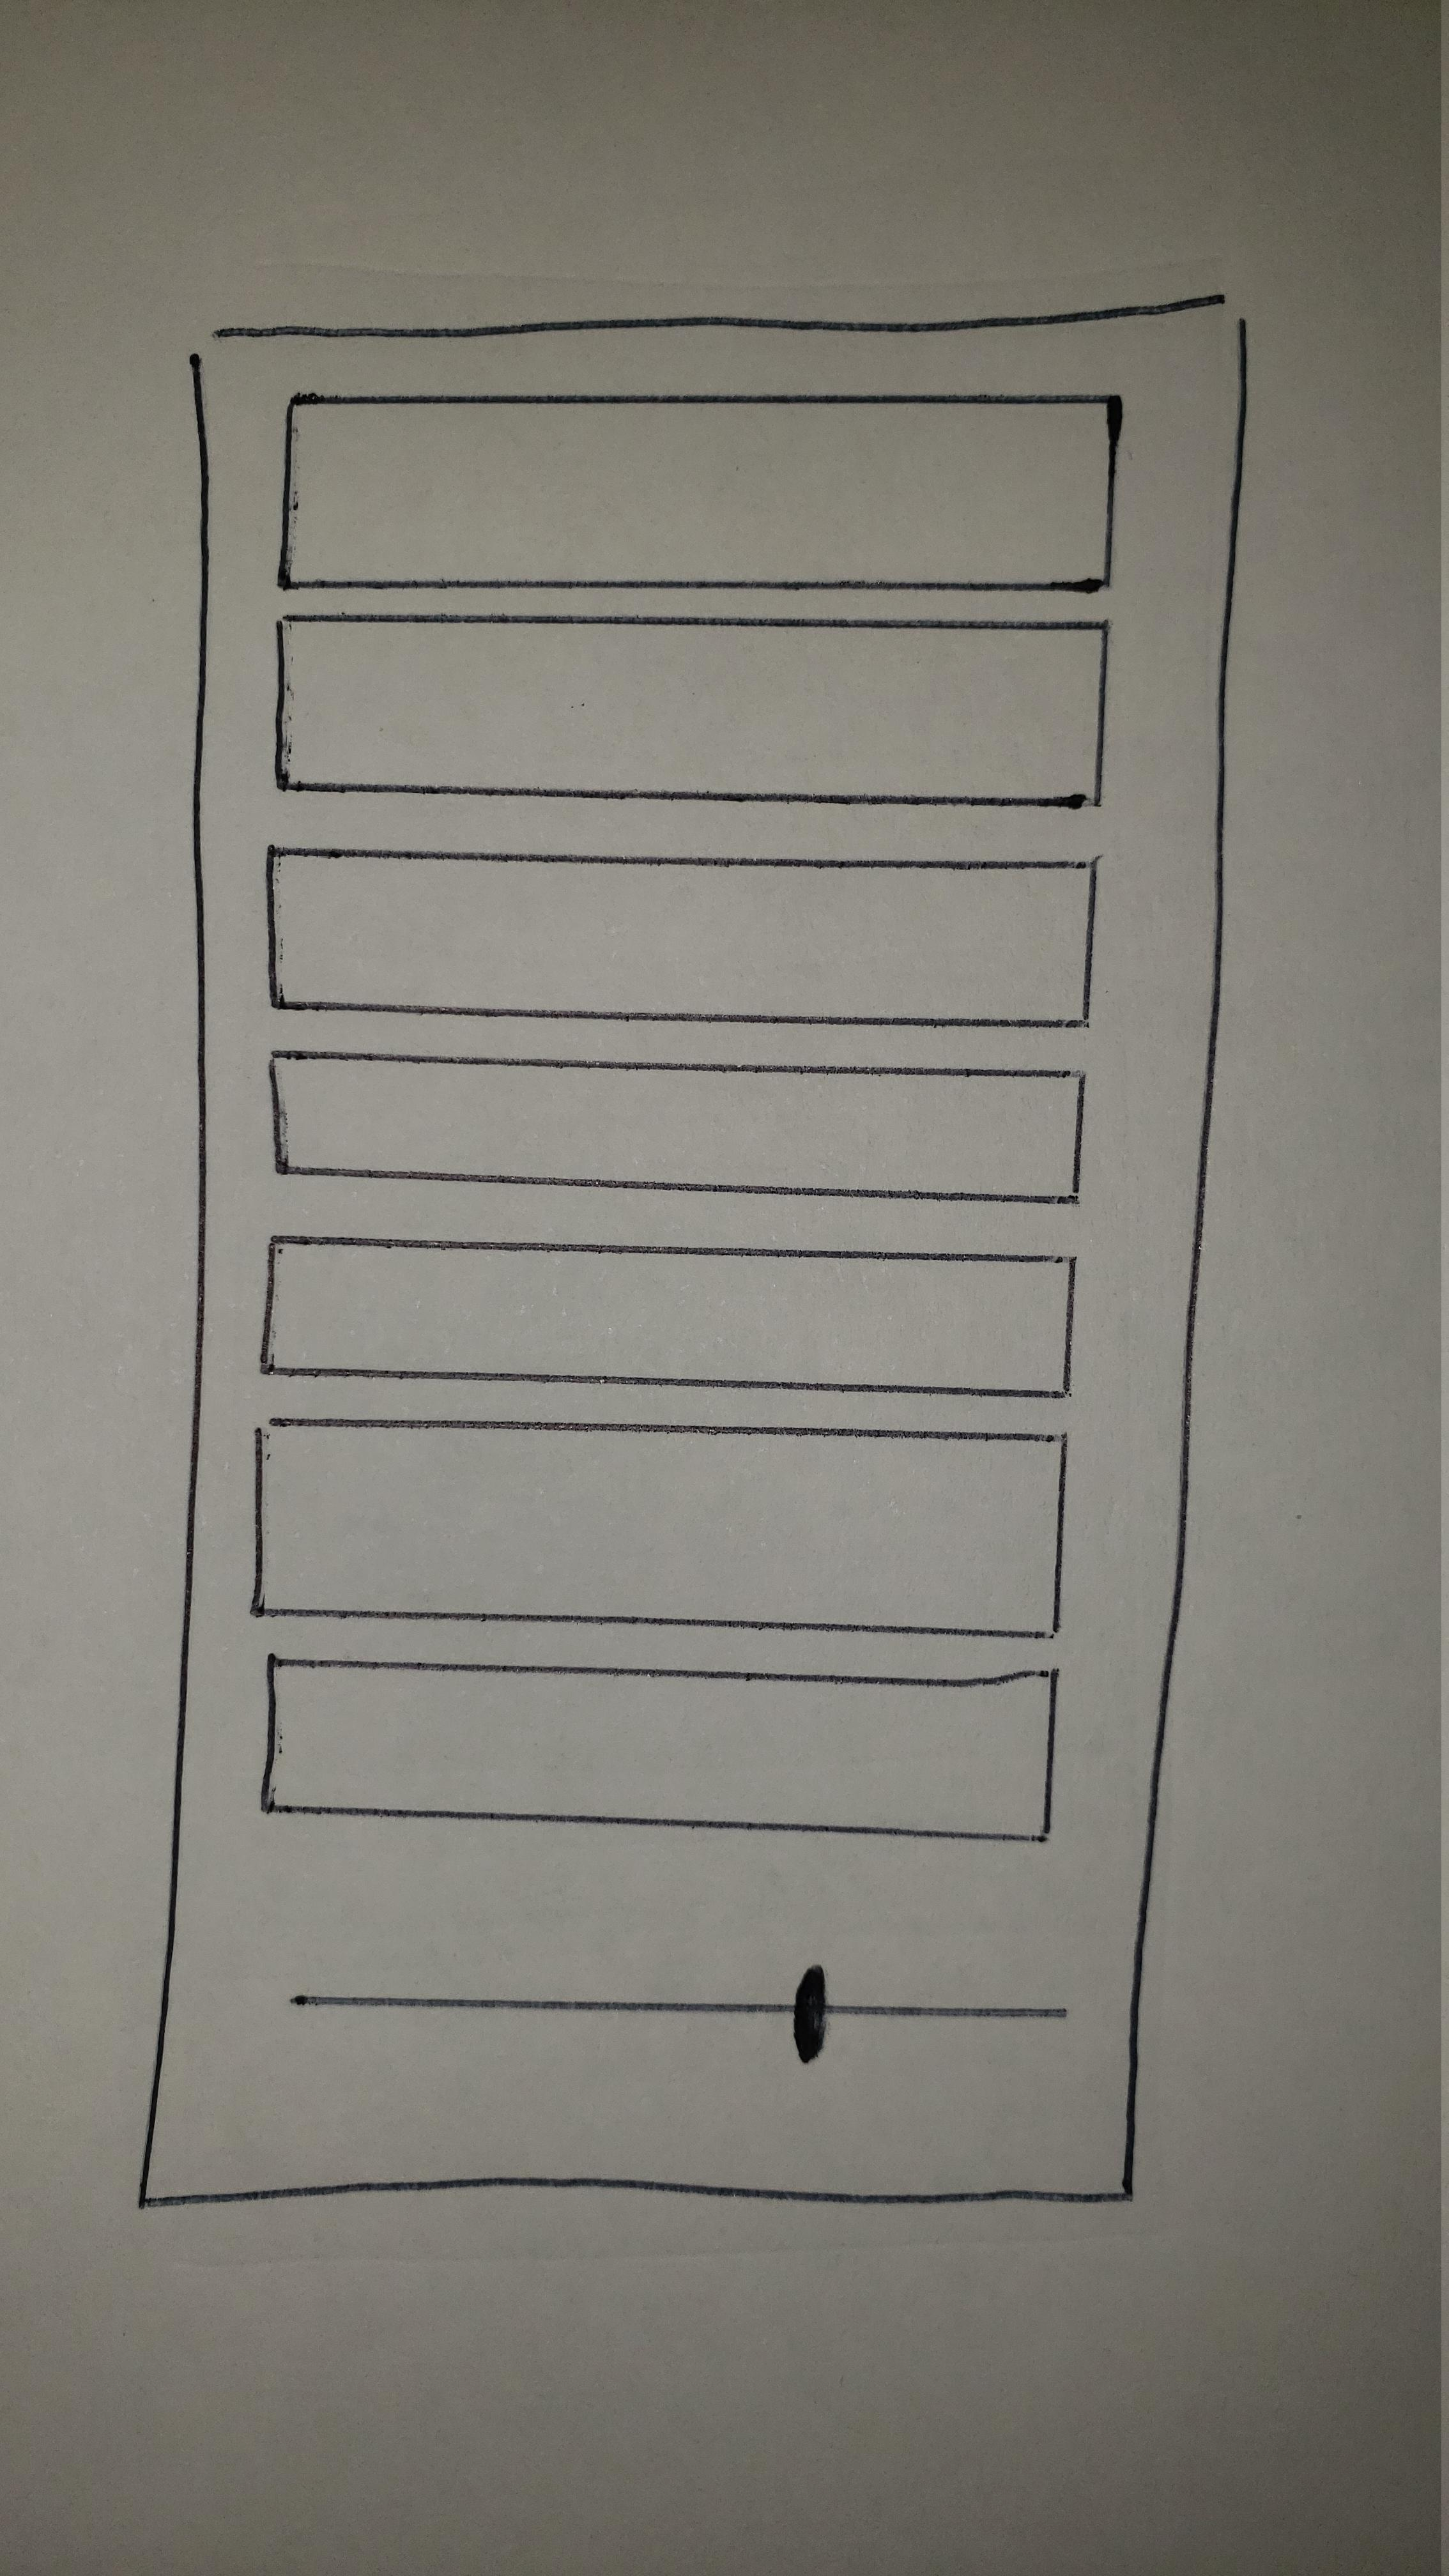Screen: (138, 292, 1249, 2204)
Slider: (290, 1966, 1065, 2061)
TextBox: (246, 1417, 1069, 1638), (276, 391, 1125, 591), (274, 614, 1109, 807), (269, 844, 1097, 1026), (260, 1654, 1056, 1844), (255, 1235, 1077, 1396), (269, 1049, 1085, 1207)
